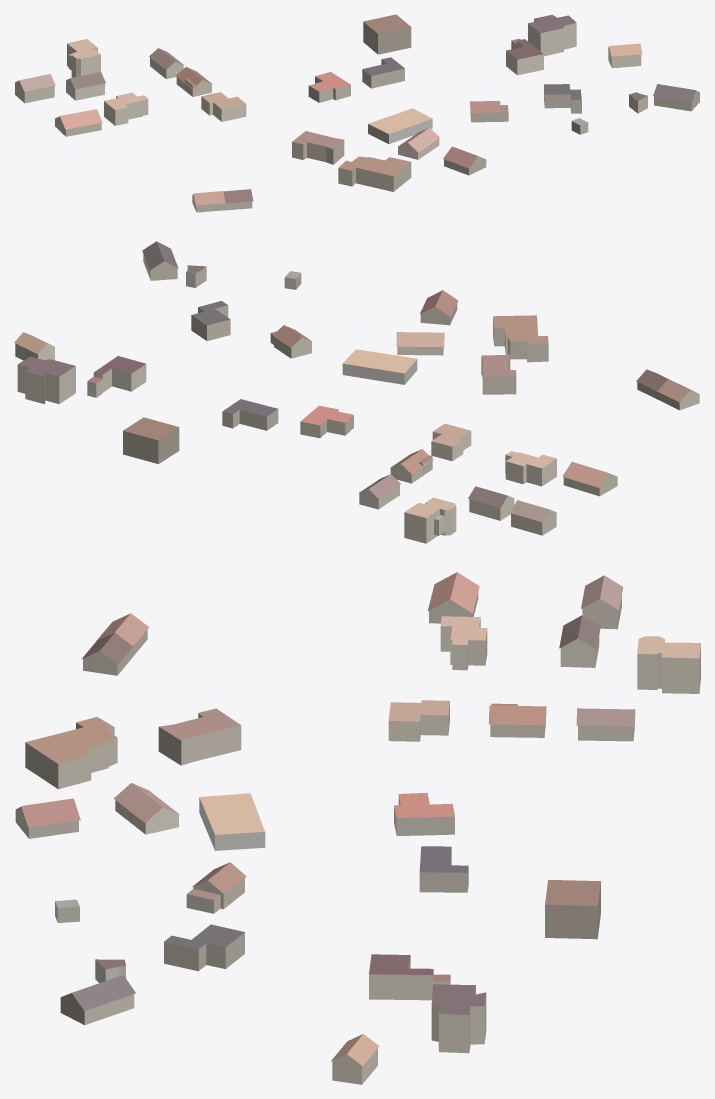
3 views of the same model, one above another, from view 1: azimuth 30°, elevation 25°; view 2: azimuth 150°, elevation 25°; view 3: azimuth 270°, elevation 25° (orthographic). The views are drawn at different scales.
Visible parts, largest first — view 1: tuile; view 2: tuile; view 3: tuile.
Part boxes in pixels (bbox=[...]): tuile: bbox=[15, 14, 699, 212]; tuile: bbox=[14, 241, 699, 543]; tuile: bbox=[15, 572, 700, 1084].
Bounding box in the file's own units: 258 × 24.3 × 174.
